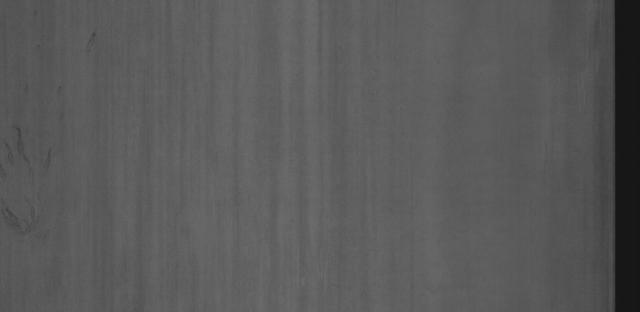water_spot: (5, 116, 66, 244)
